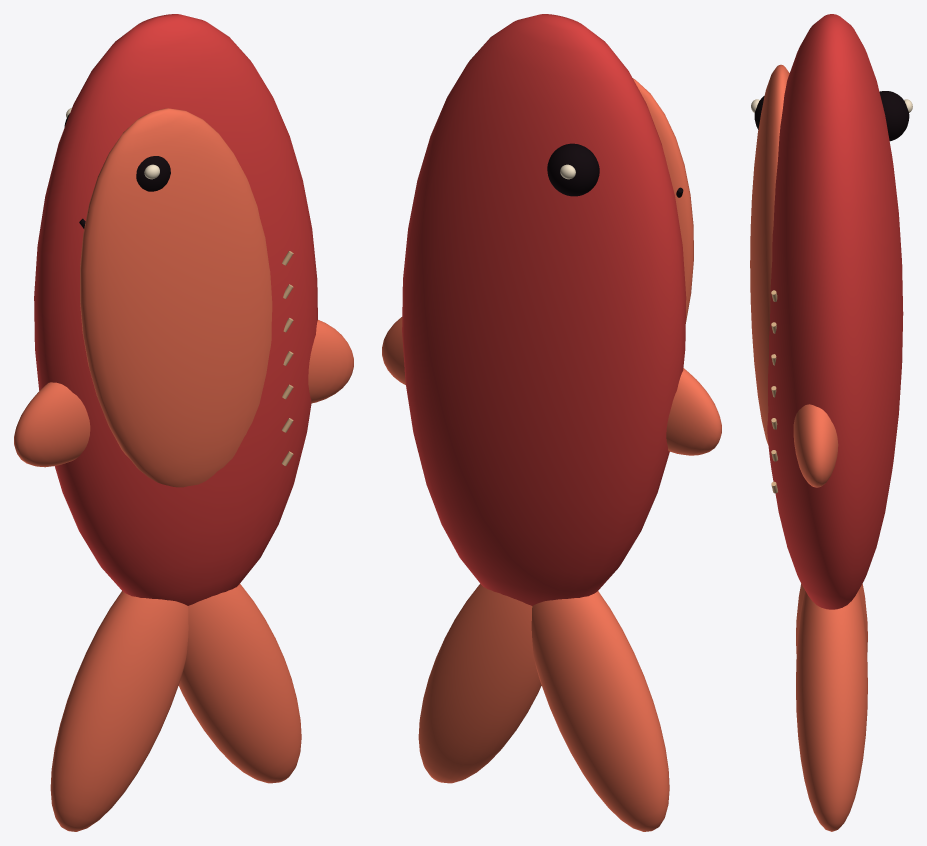
File: Plush_Fish.obj
3 renders of one model, left to right at view 1: azimuth 30°, elevation 25°; view 2: azimuth 150°, elevation 25°; view 3: azimuth 270°, elevation 25°, orthographic. The views are drawn at different scales.
Parts seen in each view (by area): view 1: Plush_salmon_body, Plush_belly, Tail_lobe, Tail_lobe.001, Fish_fin, Fish_fin.001, Button_eye; view 2: Plush_salmon_body, Tail_lobe, Tail_lobe.001, Fish_fin, Plush_belly, Button_eye.001, Fish_fin.001; view 3: Plush_salmon_body, Tail_lobe.001, Plush_belly, Fish_fin.001, Button_eye.001, Tail_lobe.
Part boxes in pixels (box(x1,y1,x2,y2)): Plush_salmon_body: box(34, 14, 317, 605); Plush_belly: box(80, 108, 272, 487); Tail_lobe: box(50, 591, 188, 831); Tail_lobe.001: box(178, 584, 301, 783); Fish_fin: box(14, 382, 90, 467); Fish_fin.001: box(308, 320, 353, 403); Button_eye: box(136, 156, 170, 191); Plush_salmon_body: box(402, 14, 686, 605); Tail_lobe: box(531, 591, 669, 831); Tail_lobe.001: box(418, 583, 541, 783); Fish_fin: box(666, 368, 721, 455); Plush_belly: box(633, 78, 693, 323); Button_eye.001: box(547, 143, 599, 196); Fish_fin.001: box(382, 317, 405, 384); Plush_salmon_body: box(767, 14, 903, 609); Tail_lobe.001: box(796, 590, 867, 831); Plush_belly: box(750, 64, 789, 445); Fish_fin.001: box(793, 404, 838, 487); Button_eye.001: box(879, 91, 909, 141); Tail_lobe: box(796, 583, 867, 655).
Size of the model in its own units: 0.4227 by 0.9483 by 0.185.
